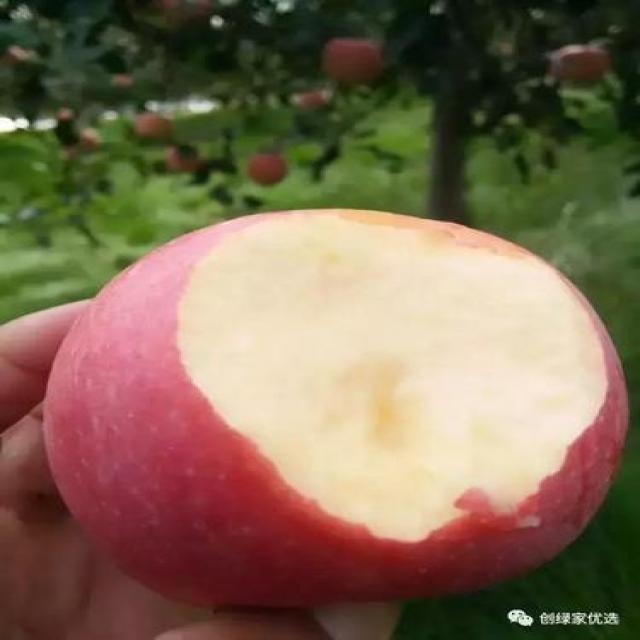Rotten: (51, 202, 640, 640)
